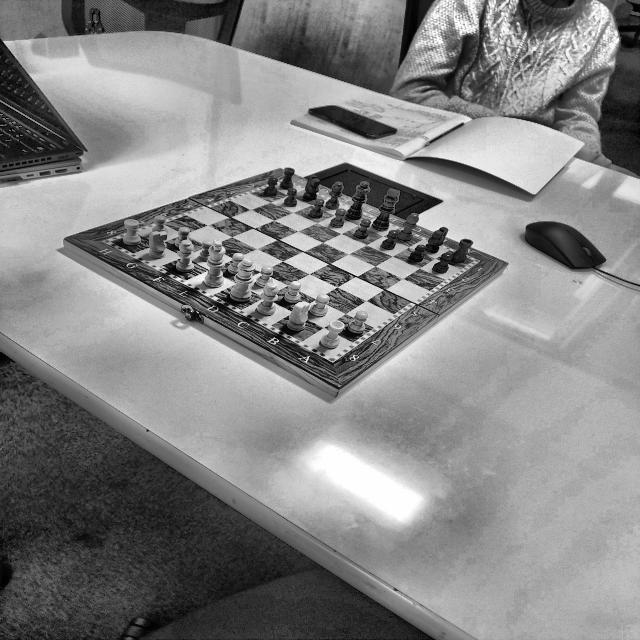black-bishop: (398, 213, 420, 241), (326, 180, 344, 208)
black-king: (374, 188, 402, 231)
black-knight: (427, 227, 449, 253), (303, 175, 321, 200)
black-pawn: (431, 253, 453, 273), (382, 230, 399, 250), (355, 219, 371, 240), (331, 208, 347, 228), (410, 244, 426, 263), (283, 188, 298, 207), (310, 199, 325, 218), (265, 178, 278, 196)
black-queen: (349, 182, 371, 220)
black-rook: (453, 238, 473, 263), (280, 168, 295, 188)
white-bishop: (256, 282, 280, 317), (174, 240, 197, 272)
white-king: (203, 239, 226, 289)
white-knight: (287, 302, 311, 331), (149, 232, 169, 260)
white-pawn: (347, 311, 370, 336), (310, 294, 331, 318), (175, 227, 194, 250), (257, 265, 275, 288), (228, 252, 245, 276), (284, 281, 302, 303), (151, 216, 169, 232), (202, 240, 214, 262)
white-queen: (230, 260, 258, 303)
white-rook: (320, 320, 346, 350), (122, 219, 142, 246)
